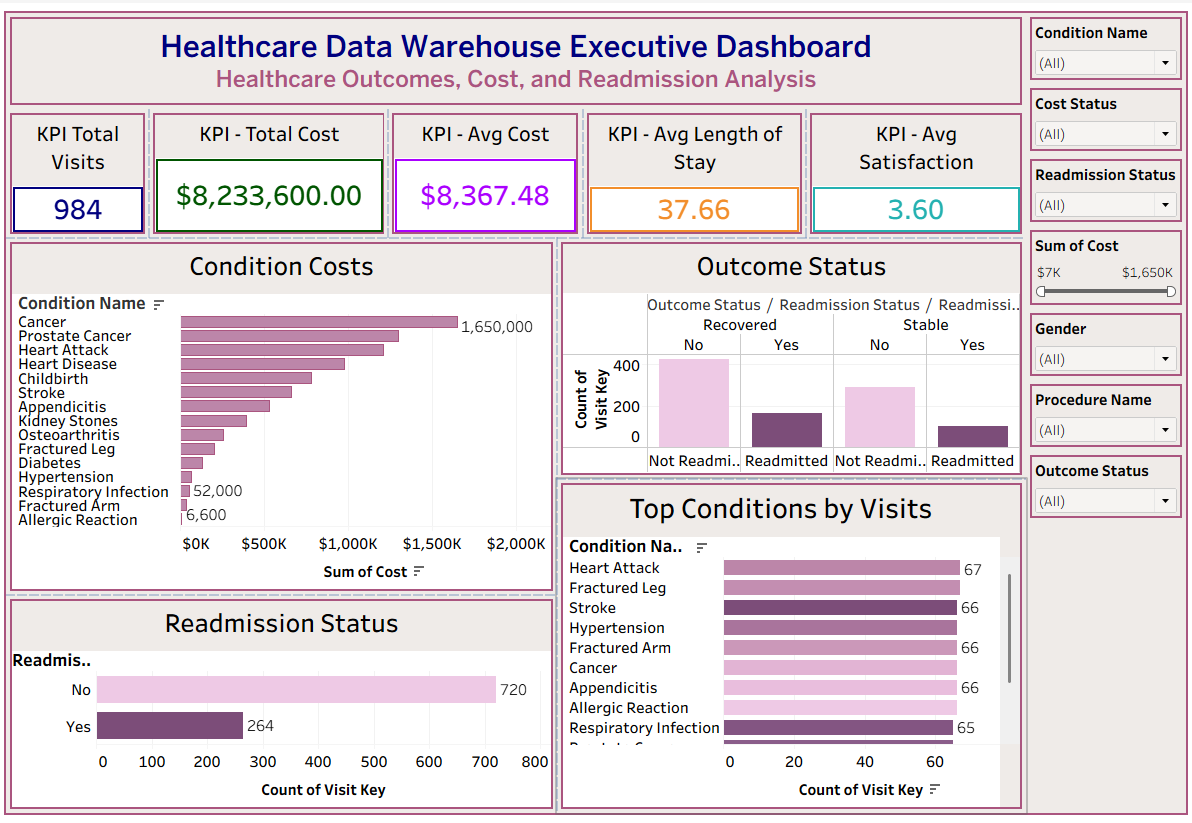

This screenshot's page, from the dashboard's own definition file:
{"tool":"tableau","page":{"name":"Executive Overview","canvas":[1000,1000],"units":"permille","ordinal":1},"visuals":[{"type":"title","box":[8.3,12.2,850,117.1]},{"type":"filter","title":"Cost by Condition","param":"[federated.09amc9a0nf9yrx1ezv74z11mnc8v].[none:condition_name:nk]","box":[858.3,12.2,133.3,86.6]},{"type":"filter","title":"Cost by Condition","param":"[federated.09amc9a0nf9yrx1ezv74z11mnc8v].[usr:Calculation_1654791398952005632:nk","box":[858.3,98.8,133.3,86.6]},{"type":"worksheet","title":"KPI - Total Visits","mark":"Automatic","box":[8.3,129.3,118.8,156.9]},{"type":"worksheet","title":"KPI - Total Cost","mark":"Automatic","box":[127.2,129.3,199.9,156.9]},{"type":"worksheet","title":"KPI - Avg Cost","mark":"Automatic","box":[327.1,129.3,161.7,156.9]},{"type":"worksheet","title":"KPI - Avg Length of Stay","mark":"Automatic","box":[488.8,129.3,185.8,156.9]},{"type":"worksheet","title":"KPI - Avg Satisfaction","mark":"Automatic","box":[674.6,129.3,183.7,156.9]},{"type":"filter","title":"Cost by Condition","param":"[federated.09amc9a0nf9yrx1ezv74z11mnc8v].[none:readmission_status:nk]","box":[858.3,185.4,133.3,86.6]},{"type":"filter","title":"Cost by Condition","param":"[federated.09amc9a0nf9yrx1ezv74z11mnc8v].[sum:cost:qk]","box":[858.3,272,133.3,101.2]},{"type":"worksheet","title":"Cost by Condition","mark":"Automatic","rows":["condition_name"],"cols":["cost"],"box":[8.3,286.2,459.6,435.5]},{"type":"worksheet","title":"Visits by Outcome","mark":"Automatic","rows":["visit_key"],"cols":["outcome_status","readmission_status","Calculation_1654791398953893890"],"box":[467.9,286.2,390.4,293.7]},{"type":"filter","title":"Cost by Condition","param":"[federated.09amc9a0nf9yrx1ezv74z11mnc8v].[none:gender:nk]","box":[858.3,373.2,133.3,86.6]},{"type":"filter","title":"Cost by Condition","param":"[federated.09amc9a0nf9yrx1ezv74z11mnc8v].[none:procedure_name:nk]","box":[858.3,459.8,133.3,86.6]},{"type":"filter","title":"Cost by Condition","param":"[federated.09amc9a0nf9yrx1ezv74z11mnc8v].[none:outcome_status:nk]","box":[858.3,546.4,133.3,86.6]},{"type":"worksheet","title":"Top Conditions by Visits","mark":"Automatic","rows":["condition_name"],"cols":["visit_key"],"box":[467.9,579.9,390.4,407.9]},{"type":"worksheet","title":"Readmission Breakdown","mark":"Automatic","rows":["readmission_status"],"cols":["visit_key"],"box":[8.3,721.7,459.6,266.1]}]}

Visuals, with their boxes on the dashboard's canvas, which has no fixed pixel size, in thousandths of its width and height (x1, y1, x2, y2). These are canvas units, not pixel positions in the 1192x823 screenshot, which may show the page scaled, cropped or inside an application window:
title: pyautogui.locateOnScreen(8, 12, 858, 129)
"Cost by Condition" filter: pyautogui.locateOnScreen(858, 12, 992, 99)
"Cost by Condition" filter: pyautogui.locateOnScreen(858, 99, 992, 185)
"KPI - Total Visits" worksheet: pyautogui.locateOnScreen(8, 129, 127, 286)
"KPI - Total Cost" worksheet: pyautogui.locateOnScreen(127, 129, 327, 286)
"KPI - Avg Cost" worksheet: pyautogui.locateOnScreen(327, 129, 489, 286)
"KPI - Avg Length of Stay" worksheet: pyautogui.locateOnScreen(489, 129, 675, 286)
"KPI - Avg Satisfaction" worksheet: pyautogui.locateOnScreen(675, 129, 858, 286)
"Cost by Condition" filter: pyautogui.locateOnScreen(858, 185, 992, 272)
"Cost by Condition" filter: pyautogui.locateOnScreen(858, 272, 992, 373)
"Cost by Condition" worksheet: pyautogui.locateOnScreen(8, 286, 468, 722)
"Visits by Outcome" worksheet: pyautogui.locateOnScreen(468, 286, 858, 580)
"Cost by Condition" filter: pyautogui.locateOnScreen(858, 373, 992, 460)
"Cost by Condition" filter: pyautogui.locateOnScreen(858, 460, 992, 546)
"Cost by Condition" filter: pyautogui.locateOnScreen(858, 546, 992, 633)
"Top Conditions by Visits" worksheet: pyautogui.locateOnScreen(468, 580, 858, 988)
"Readmission Breakdown" worksheet: pyautogui.locateOnScreen(8, 722, 468, 988)
